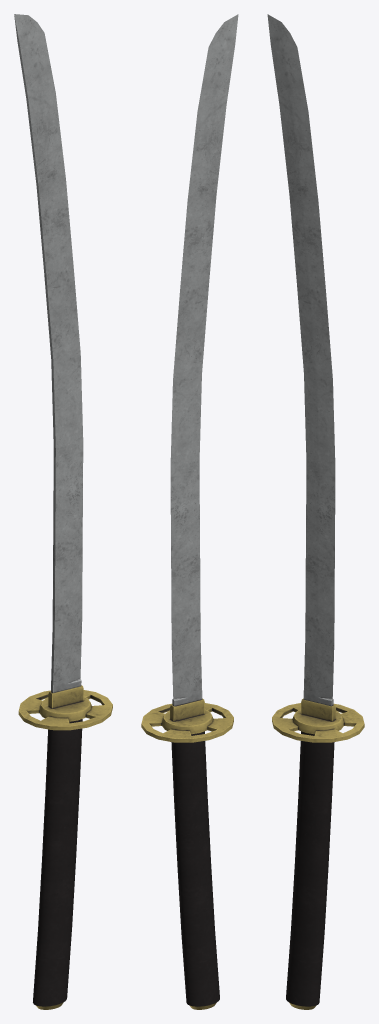
Rendered from Katana.fbx.
3 views of the same model, side by side, from view 1: azimuth 30°, elevation 25°; view 2: azimuth 210°, elevation 25°; view 3: azimuth 330°, elevation 25° (orthographic).
Parts seen in each view (by area): view 1: Katana; view 2: Katana; view 3: Katana.
Part boxes in pixels (x1,y1,x2,y2): Katana: [14, 14, 112, 1009]; Katana: [141, 14, 238, 1009]; Katana: [267, 14, 364, 1009].
Bounding box in the file's own units: 10.55 × 108 × 8.65.
